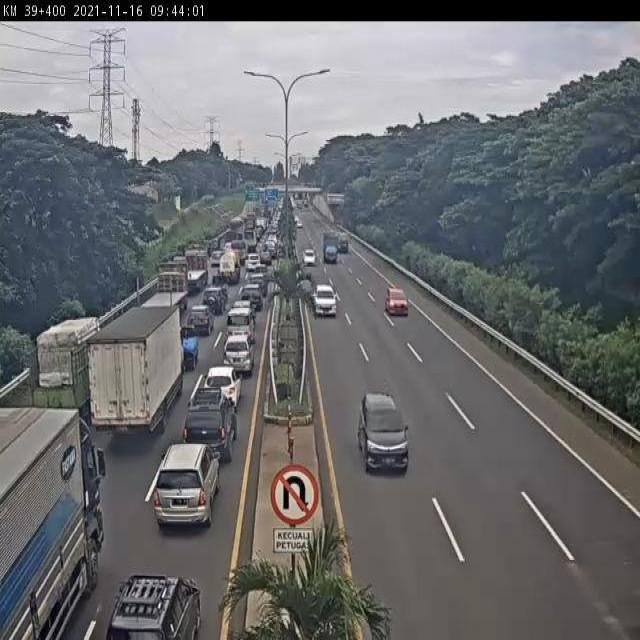car: (107, 572, 204, 640), (154, 441, 223, 527), (359, 389, 408, 475), (186, 386, 236, 458), (206, 364, 241, 405), (222, 335, 253, 372), (228, 306, 253, 342), (189, 304, 214, 336), (314, 284, 338, 316), (202, 285, 227, 315), (385, 284, 409, 315)
truck-m-: (90, 307, 185, 436), (25, 314, 114, 422)
